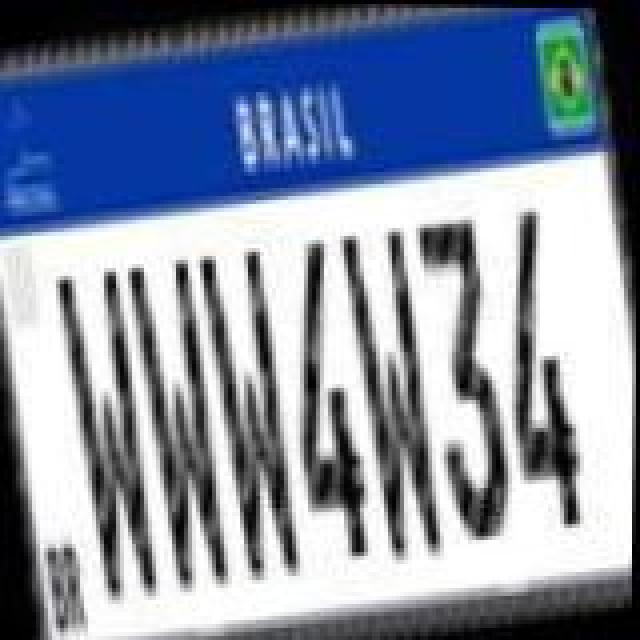3: (400, 208, 524, 544)
4: (474, 196, 594, 536), (264, 228, 380, 564)
W: (118, 246, 242, 598), (48, 260, 172, 608), (192, 238, 312, 586), (334, 216, 454, 564)
